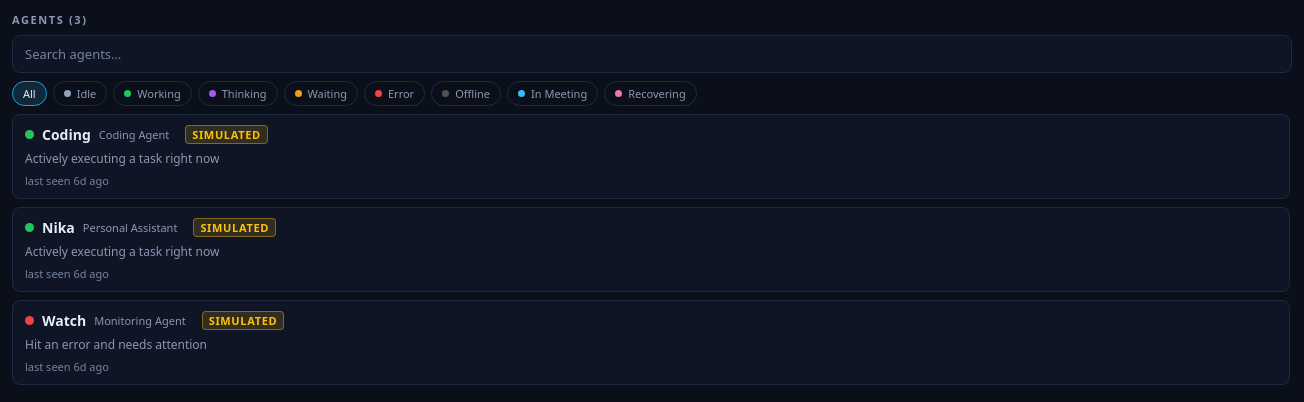
Test: AgentList › filters by search text
Type "cod" into the search field labelled "Search agents…" at (652, 54), box [12,35,1292,73]
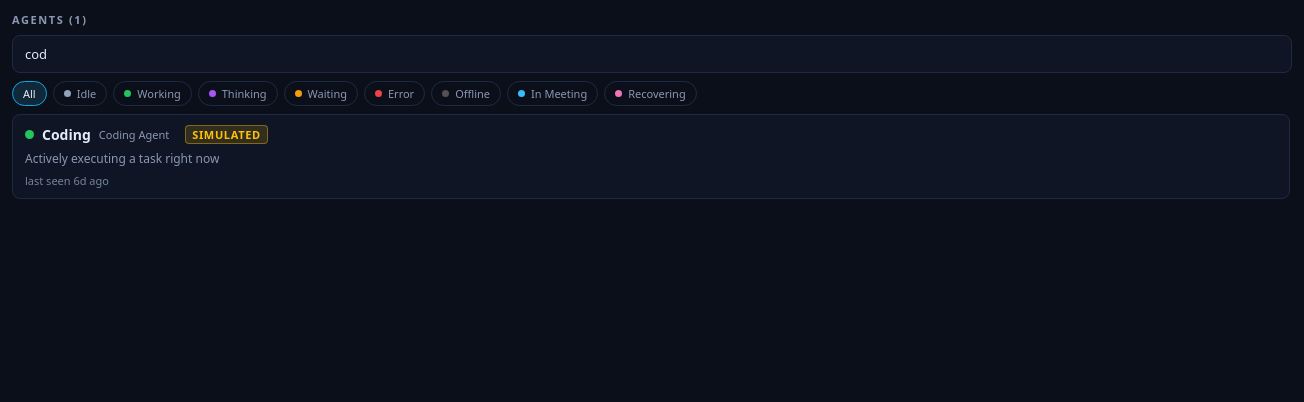
Expected: the text "Coding" is shown, [42,125,91,144]
Expected: the button "Nika" is gone
Expected: the button "Watch" is gone
